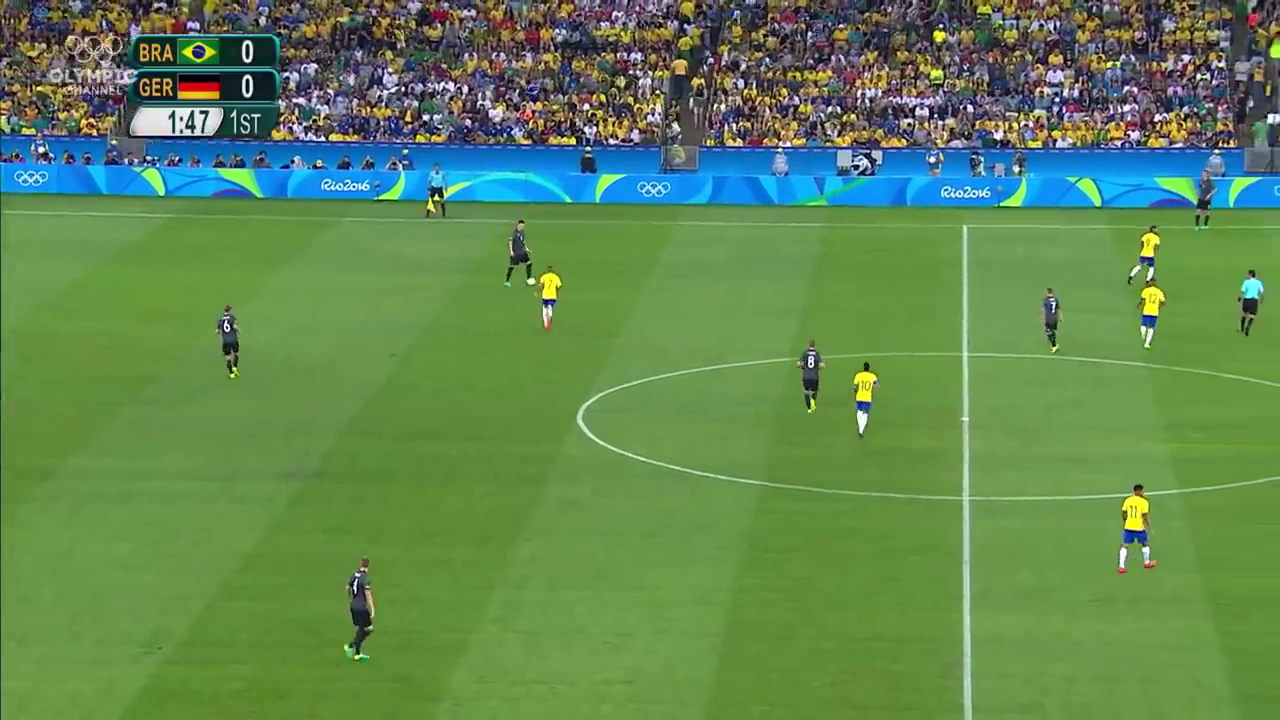ball: (525, 273, 536, 290)
player: (1117, 480, 1157, 576), (341, 556, 374, 662), (795, 339, 828, 411), (212, 305, 241, 379), (850, 359, 877, 438), (1033, 287, 1066, 351), (1235, 271, 1265, 339), (1125, 226, 1157, 289), (504, 220, 532, 289), (536, 265, 565, 331), (1136, 277, 1163, 345)
